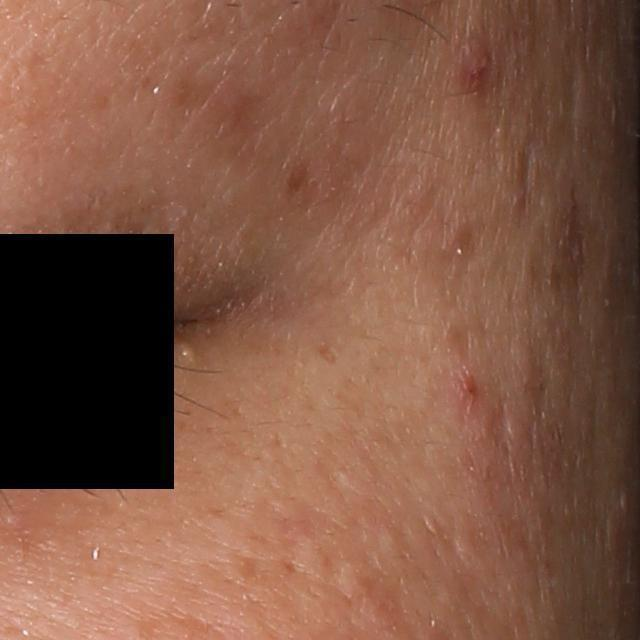atrophic_scar: (485, 399, 514, 457)
papule: (452, 23, 503, 96), (449, 368, 483, 410)
